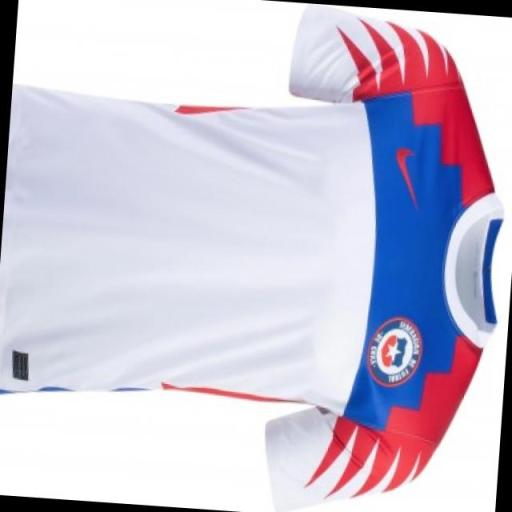Nike: (392, 140, 422, 215)
